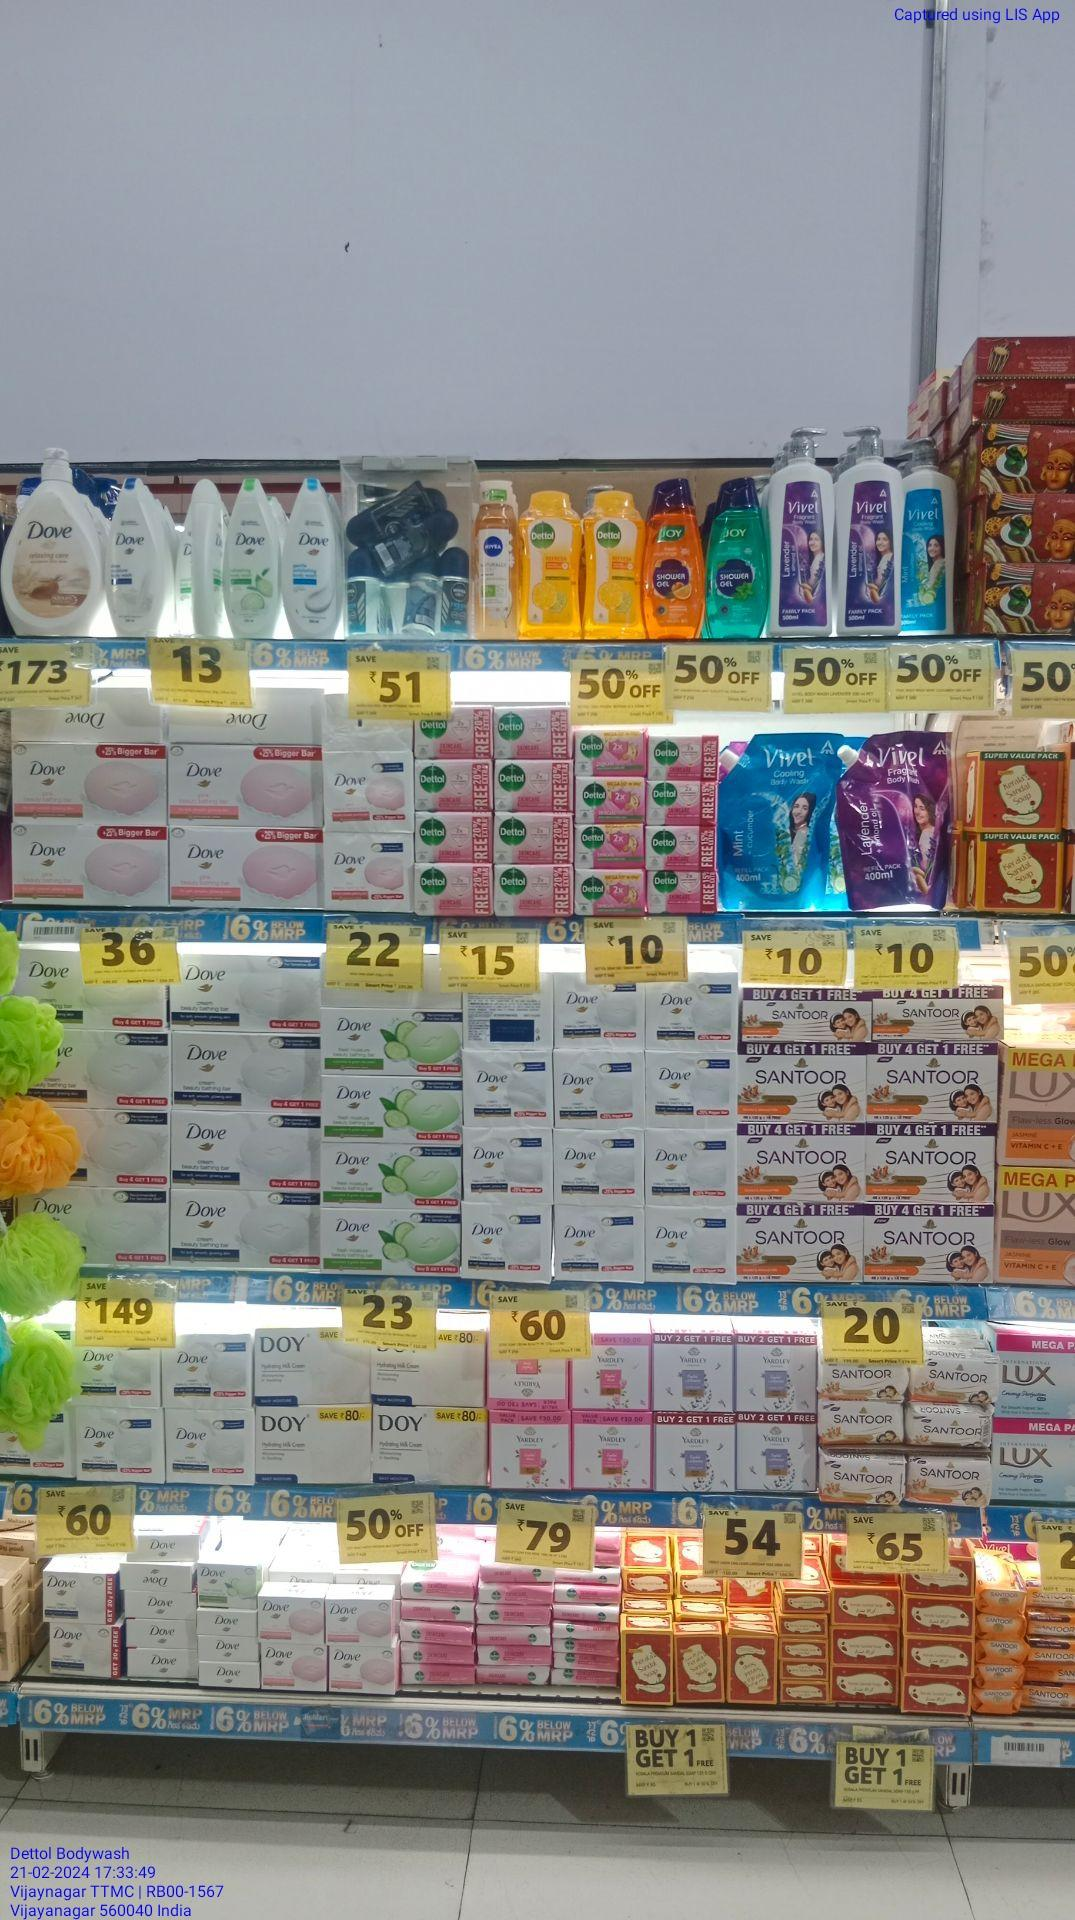Dettol_Bodywash_Refresh: (518, 489, 583, 640), (583, 488, 642, 641)
Dove_Deep_Moisture_Body_Wash_250ML: (102, 475, 164, 638)
Dove_Gentle_Exfoliating_Body_Wash_250ML: (282, 476, 340, 640)
Dove_Refreshing_Body_Wash_250ML: (223, 475, 281, 638)
Joy_Shower_Gel_Mandarin_and_Lemongrass_250ML: (641, 476, 704, 640)
Joy_Shower_Gel_Mint_and_Eucalyptus_250ML: (704, 476, 769, 640)
